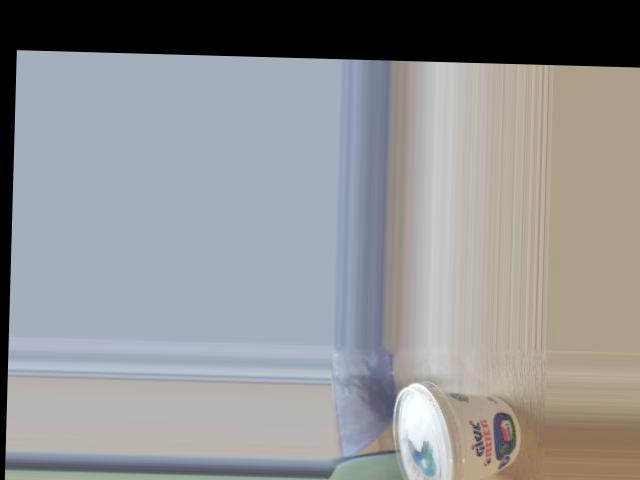cotage: (391, 389, 512, 480)
